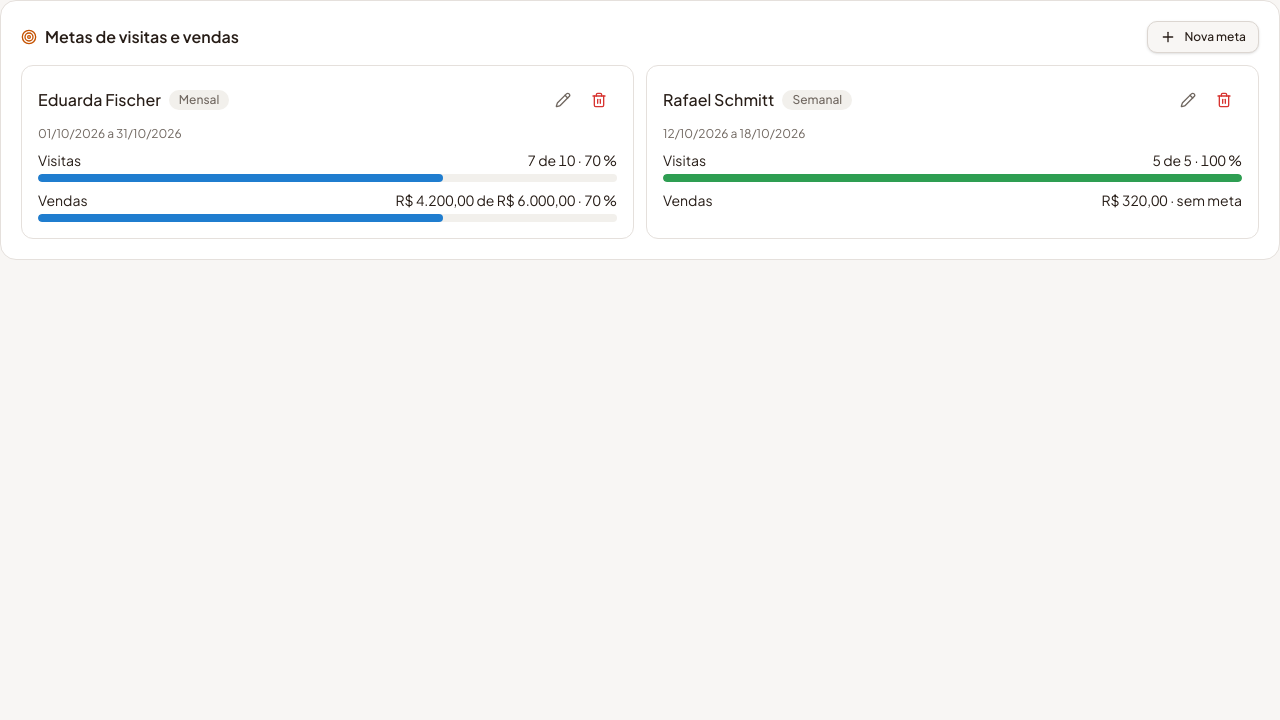
Test case: MetasPanel — criar, editar e excluir (gestor) › personalizado: o fim fica livre; fim antes do início mostra o erro e não envia
This screenshot has width=1280, height=720.
Click the button "Nova meta".
click(1203, 37)  # box [1147, 21, 1259, 53]
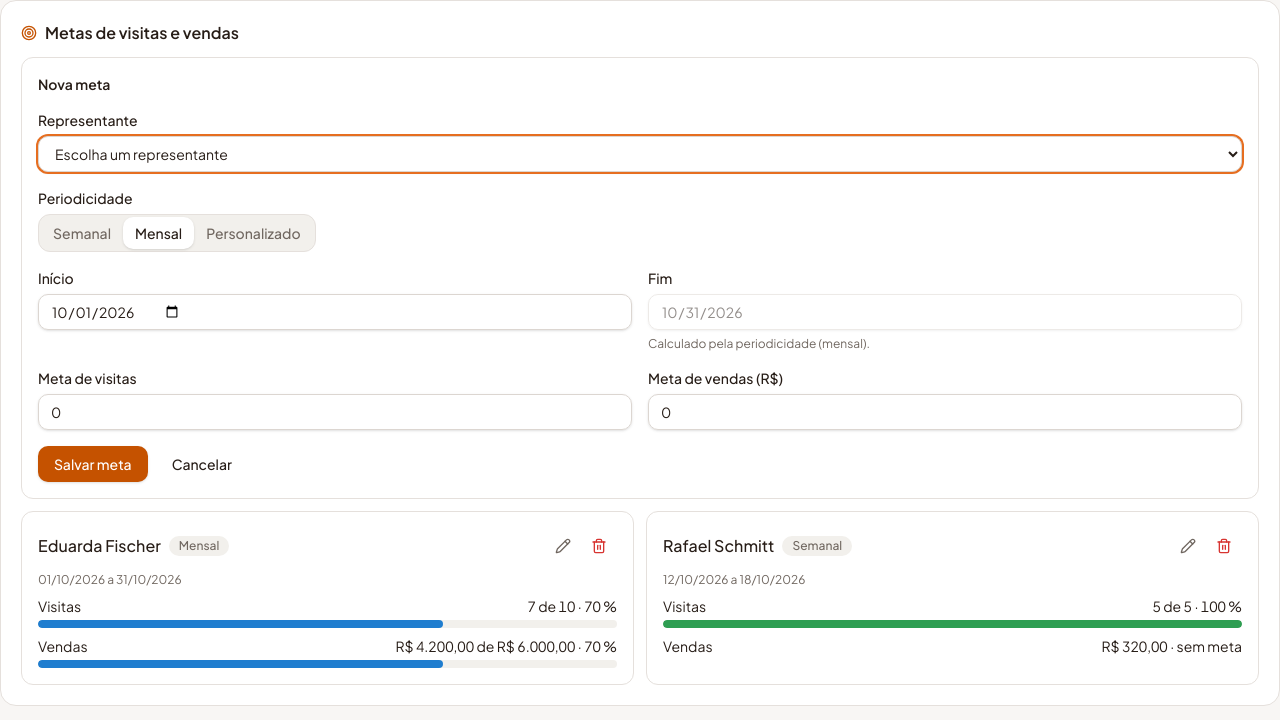
Select "Eduarda Fischer" in the dropdown labelled "Representante" at (640, 154), box [38, 136, 1242, 172]
Click the radio button with aria-label "Período personalizado".
click(253, 233)  # box [194, 217, 313, 249]
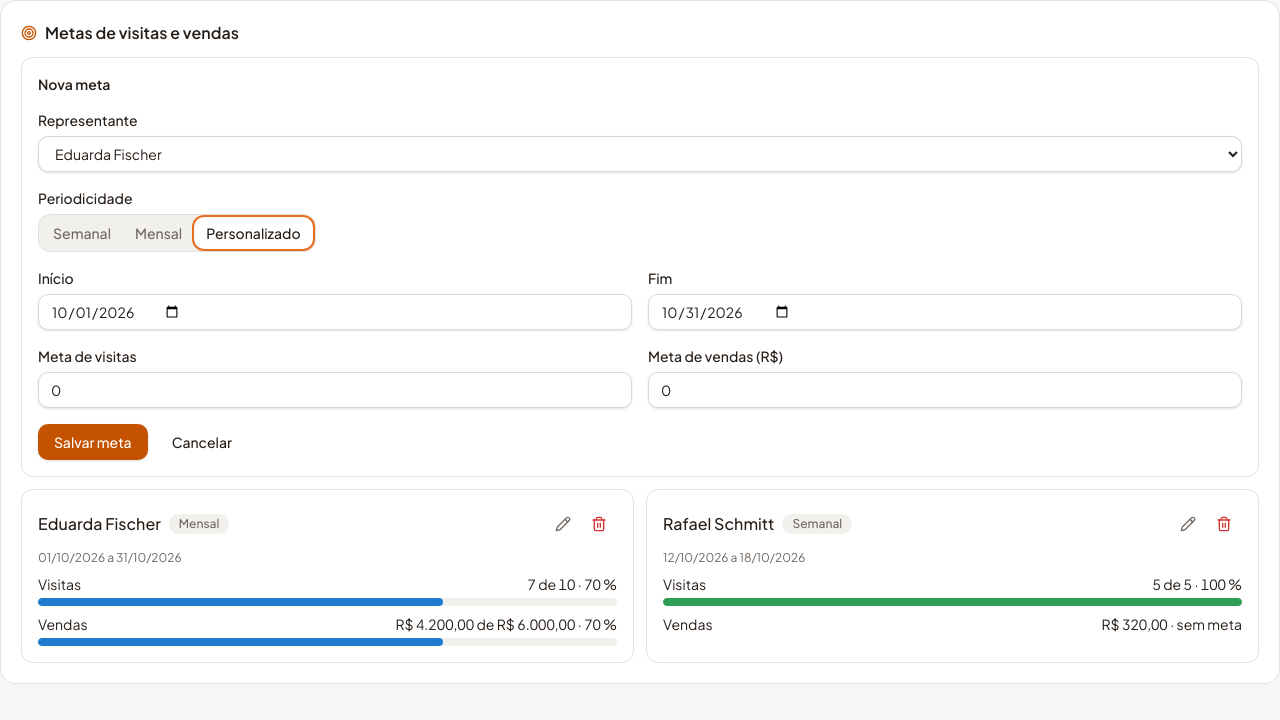
Expected: the date field labelled "Fim" is enabled, [648, 294, 1242, 330]
Type "2026-10-20" into the date field labelled "Início".
click(335, 312); type("2026-10-20")  # box [38, 294, 632, 330]
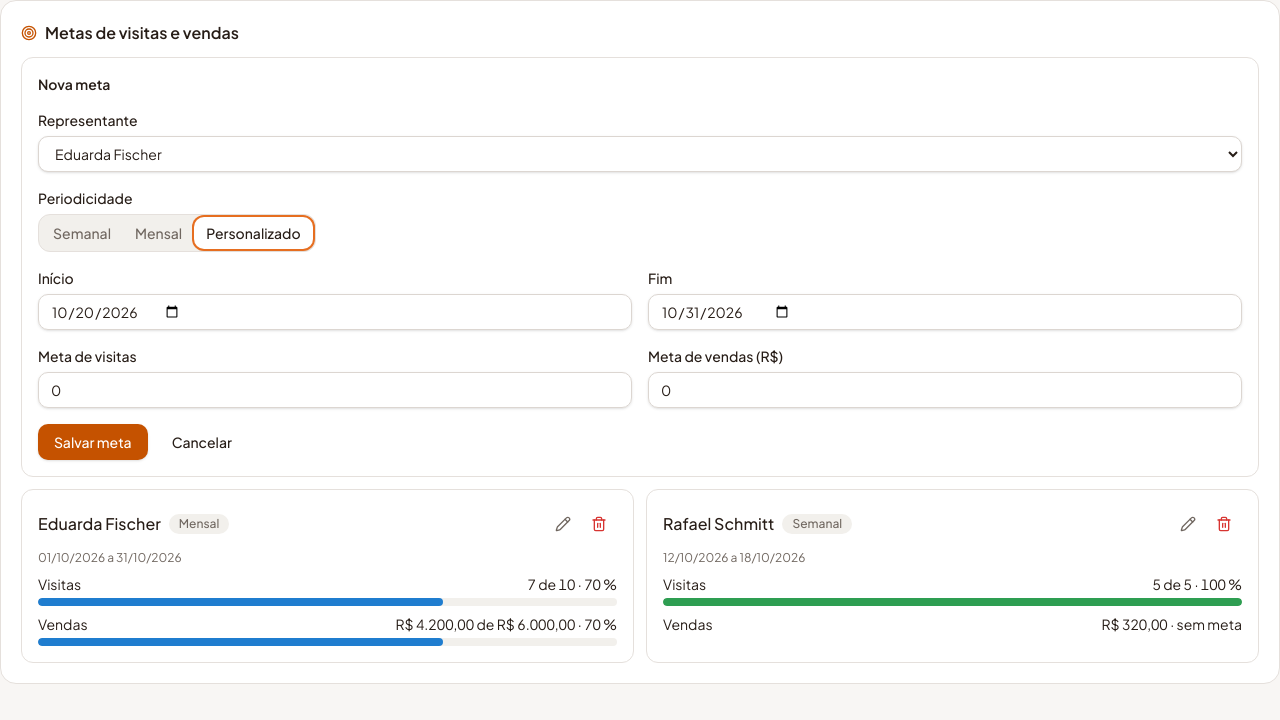
Type "2026-10-10" into the date field labelled "Fim".
click(945, 312); type("2026-10-10")  # box [648, 294, 1242, 330]
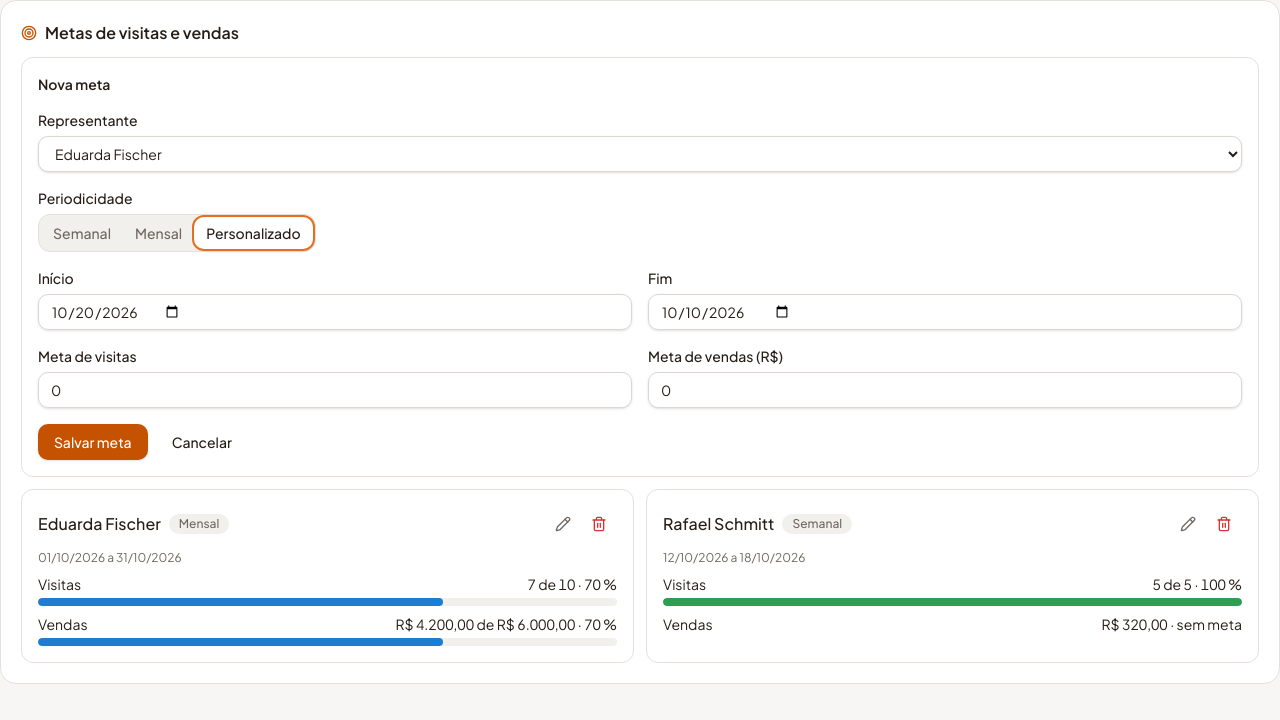
Replace the text in the number field labelled "Meta de visitas" with "-1" at (335, 390), box [38, 372, 632, 408]
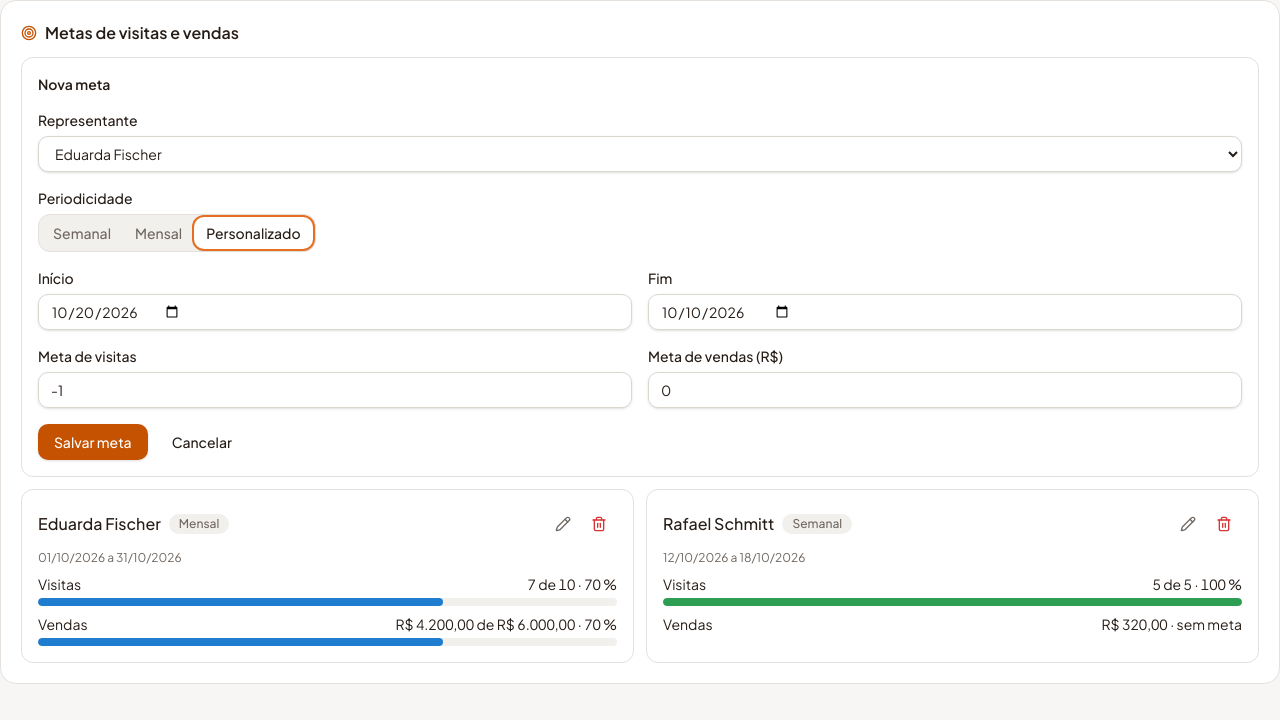
Click the button "Salvar meta".
click(93, 442)  # box [38, 424, 148, 460]
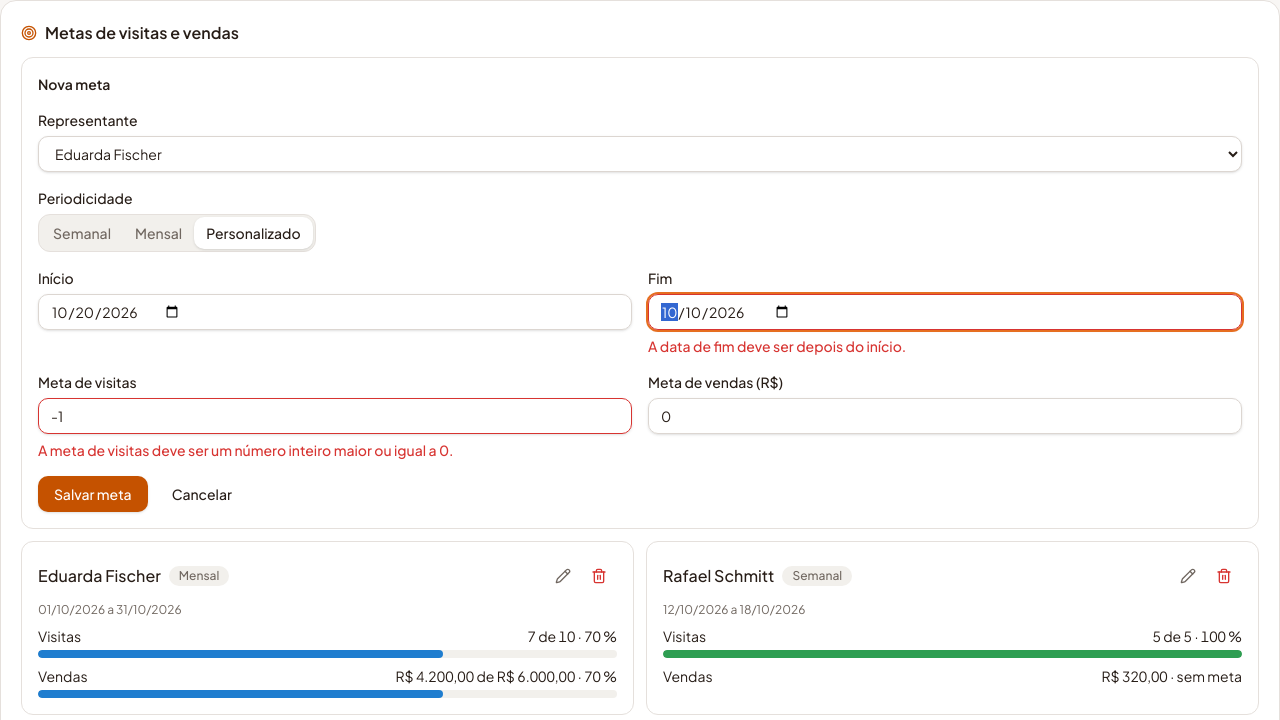
Expected: the text "A data de fim deve ser depois do início." is shown, [648, 337, 906, 355]
Expected: the text "A meta de visitas deve ser um número inteiro maior ou igual a 0." is shown, [38, 441, 454, 459]
